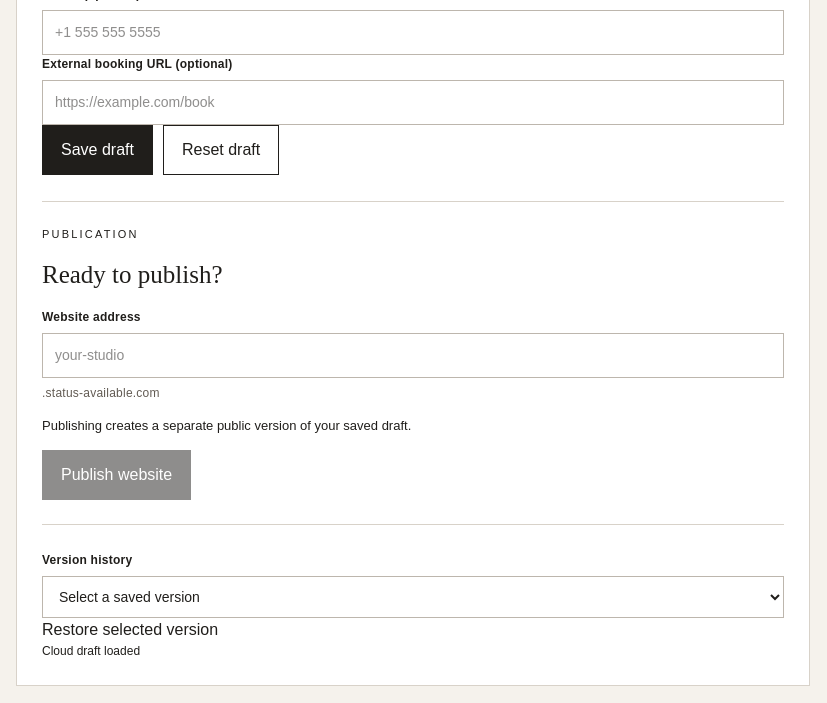
it: Customer publication interface › blocks publication after a draft version conflict
The width and height of the screenshot is (827, 703).
(page scrolled)
Type "example-studio" into the field with placeholder "your-studio".
click(413, 355); type("example-studio")  # box left=42, top=333, right=784, bottom=378
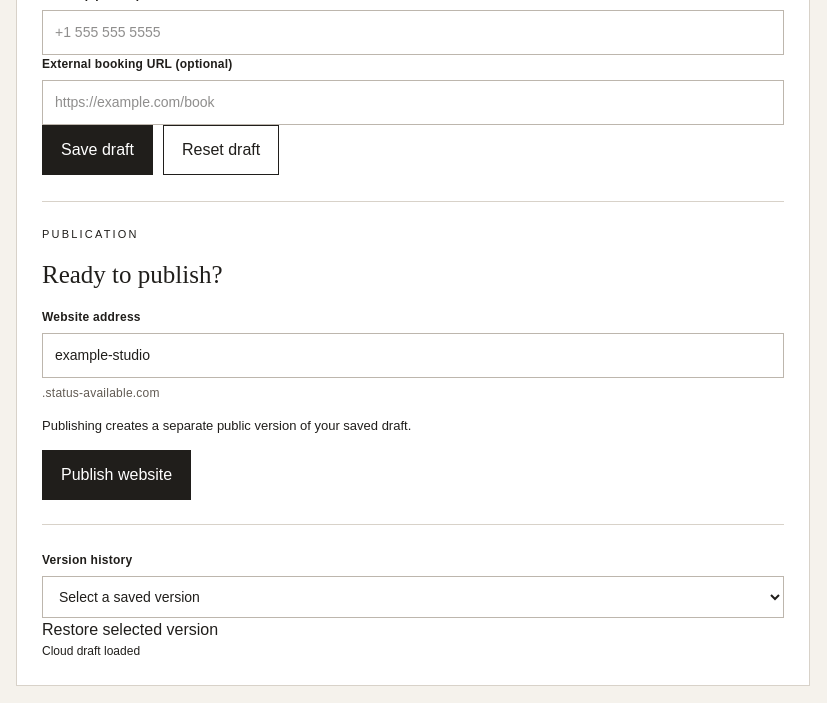
Click the button "Publish website".
click(117, 475)  # box left=42, top=450, right=191, bottom=500
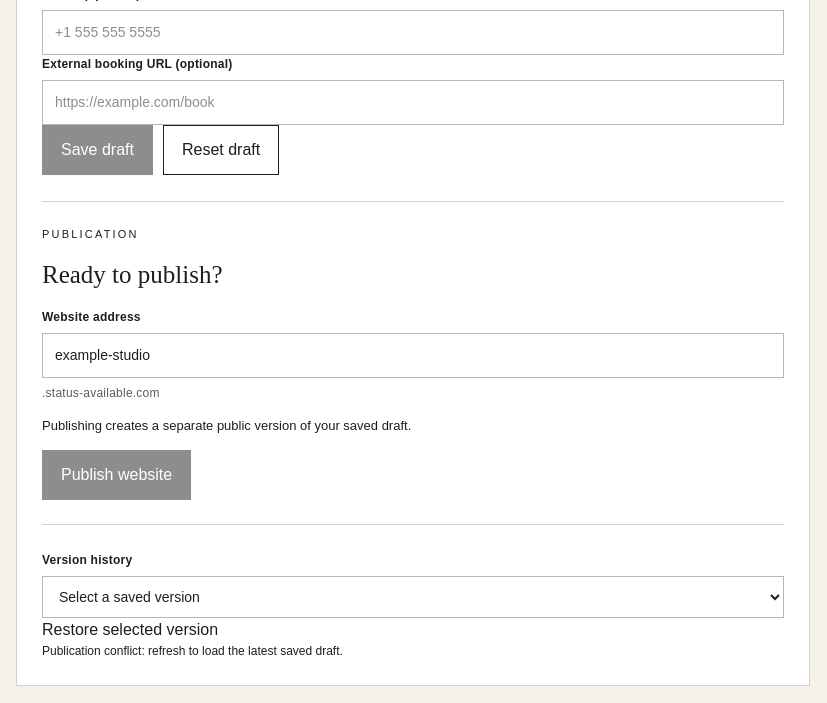
Now the text "Publication conflict: refresh to load the latest saved draft." is shown, box left=42, top=644, right=343, bottom=658
Now the button "Publish website" is disabled, box left=42, top=450, right=191, bottom=500
